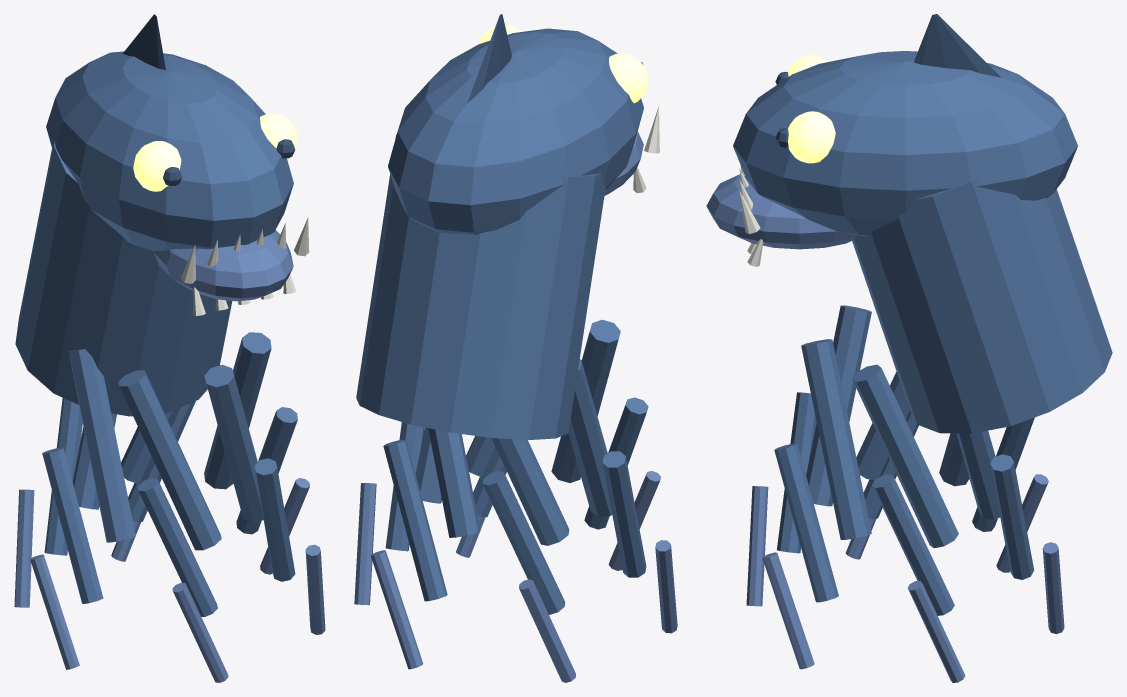
File: boss_leviathan.glb
3 renders of one model, left to right at view 1: azimuth 30°, elevation 25°; view 2: azimuth 150°, elevation 25°; view 3: azimuth 270°, elevation 25°, orthographic. The views are drawn at different scales.
Visible parts, largest first — view 1: Sphere, Cylinder, Cylinder.013, Cylinder.010, Sphere.001, Cylinder.016, Cylinder.011, Cylinder.014, Cylinder.001, Cylinder.017, Cylinder.008, Cylinder.009 (+11 smaller); view 2: Cylinder, Sphere, Cylinder.005, Cylinder.007, Cylinder.008, Cylinder.010, Cylinder.004, Cylinder.011, Cylinder.013, Cylinder.006, Cylinder.003, Cylinder.009 (+10 smaller); view 3: Cylinder, Sphere, Cylinder.016, Cylinder.001, Sphere.001, Cylinder.017, Cylinder.013, Cylinder.002, Cylinder.005, Cone.011, Cylinder.004, Cylinder.014 (+10 smaller).
Boxes of the visible parts, box(x1,y1,x2,y2) form: Sphere: box(46, 51, 293, 251); Cylinder: box(15, 141, 232, 416); Cylinder.013: box(118, 370, 221, 550); Cylinder.010: box(69, 349, 135, 542); Sphere.001: box(153, 230, 293, 301); Cylinder.016: box(204, 364, 263, 522); Cylinder.011: box(42, 447, 103, 603); Cylinder.014: box(137, 478, 217, 616); Cylinder.001: box(204, 332, 271, 489); Cylinder.017: box(254, 458, 295, 581); Cylinder.008: box(44, 398, 82, 555); Cylinder.009: box(14, 489, 34, 607); Cylinder: box(356, 135, 605, 439); Sphere: box(388, 28, 643, 234); Cylinder.005: box(383, 439, 447, 601); Cylinder.007: box(491, 438, 569, 545); Cylinder.008: box(482, 471, 565, 614); Cylinder.010: box(568, 359, 612, 516); Cylinder.004: box(428, 428, 480, 537); Cylinder.011: box(602, 451, 646, 577); Cylinder.013: box(551, 319, 620, 482); Cylinder.006: box(371, 550, 423, 669); Cylinder.003: box(354, 483, 376, 605); Cylinder.009: box(519, 579, 575, 682); Cylinder: box(852, 177, 1112, 433); Sphere: box(733, 51, 1077, 235); Cylinder.016: box(801, 339, 871, 539); Cylinder.001: box(852, 364, 958, 548); Sphere.001: box(706, 174, 855, 249); Cylinder.017: box(774, 443, 838, 602); Cylinder.013: box(806, 305, 871, 506); Cylinder.002: box(872, 474, 954, 615); Cylinder.005: box(990, 454, 1034, 579); Cone.011: box(913, 14, 1001, 77); Cylinder.004: box(956, 430, 999, 519); Cylinder.014: box(777, 392, 816, 553).
Bounding box in the file's own units: 8.94 × 17.62 × 10.71.
